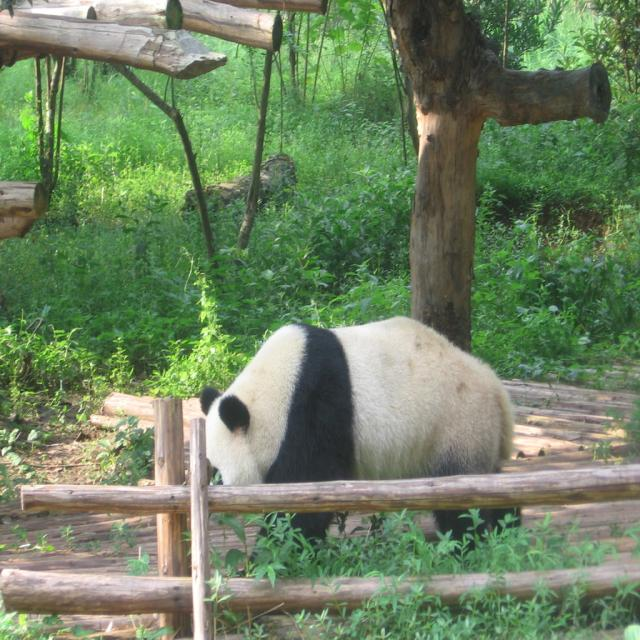panda: (202, 313, 523, 571)
